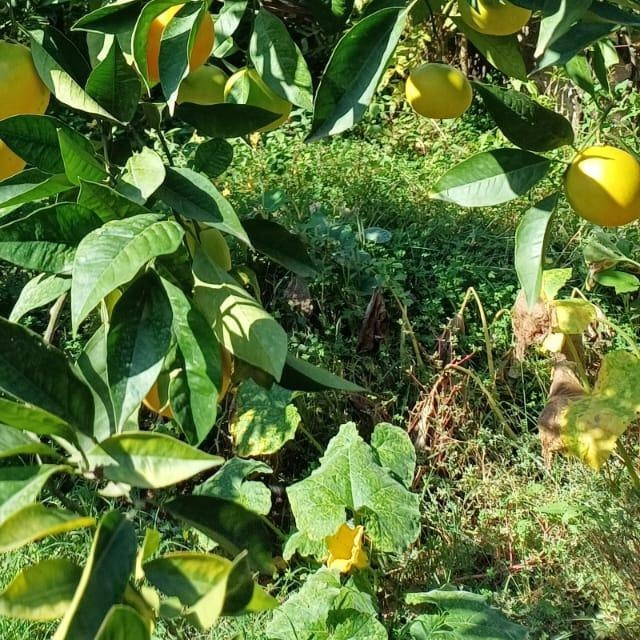orange: (134, 332, 230, 420), (133, 0, 217, 86), (560, 141, 640, 227), (0, 33, 56, 135), (219, 64, 293, 132), (402, 58, 474, 126), (453, 0, 539, 42), (177, 61, 231, 121), (0, 101, 35, 187)
